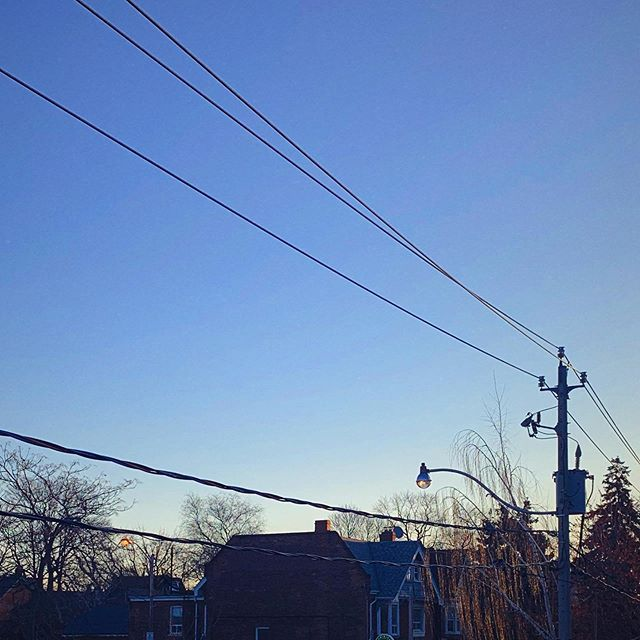building: (191, 511, 441, 640)
power pole: (523, 337, 601, 640)
sky: (8, 1, 640, 444)
tree: (1, 459, 131, 640)
